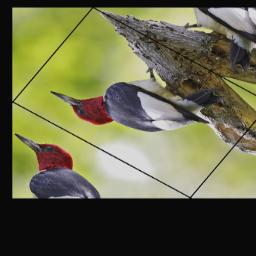Woodpecker: (46, 28, 233, 168)
